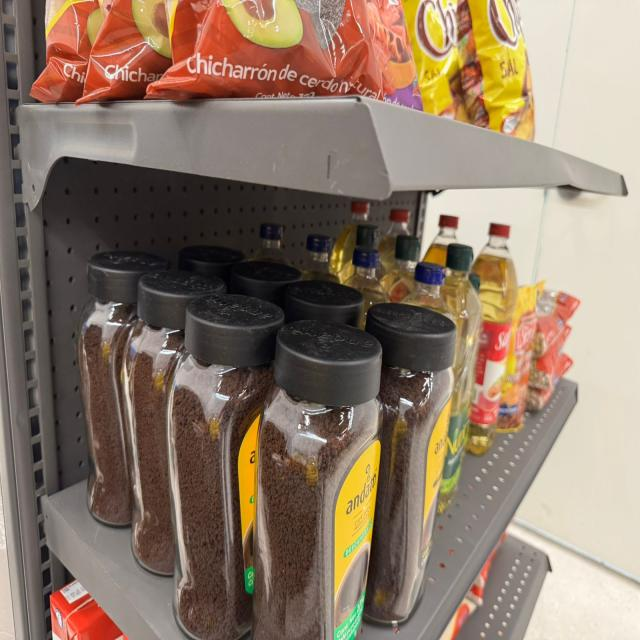ACEITE VEGETAL LA POSADA 800 ML: (400, 259, 458, 487), (342, 245, 393, 304), (297, 233, 343, 285), (246, 223, 295, 267)
Aceite Comestible Nutrioli 850ml: (438, 243, 483, 517), (379, 234, 423, 304), (356, 223, 379, 248)
Arroz La Posada 900 gr: (466, 532, 506, 606)
Azucar Estandar La Posada 1 kg: (439, 599, 477, 639)
CAFE SOLUBLE ANDATTI DESCAFEINADO 275G: (250, 317, 385, 639), (166, 293, 285, 639), (122, 268, 228, 576), (74, 248, 172, 530)
Cafe Soluble Andatti 275g: (364, 303, 458, 627)
Chicharron de Cerdo Natural Bitz 120 gr: (150, 0, 389, 100), (77, 0, 174, 104), (27, 0, 102, 111)
Frijol La Sierra Chorizo 430 bolsa: (498, 281, 544, 433)
Frijol Pinto La Posada 900gr: (534, 288, 582, 359), (528, 323, 572, 397), (526, 353, 575, 413)
PLC NUTRALAT FORTE 1.5 LT: (50, 580, 128, 639)
Papas Chips Barcel 170 gr bolsa con sal: (458, 0, 534, 146), (394, 0, 474, 125)
Sabrosano Mantequila 850 ml: (465, 222, 518, 457), (330, 201, 371, 275), (379, 210, 411, 273), (423, 214, 459, 266)
chicharrones de cerdo intenso: (359, 0, 425, 113)
